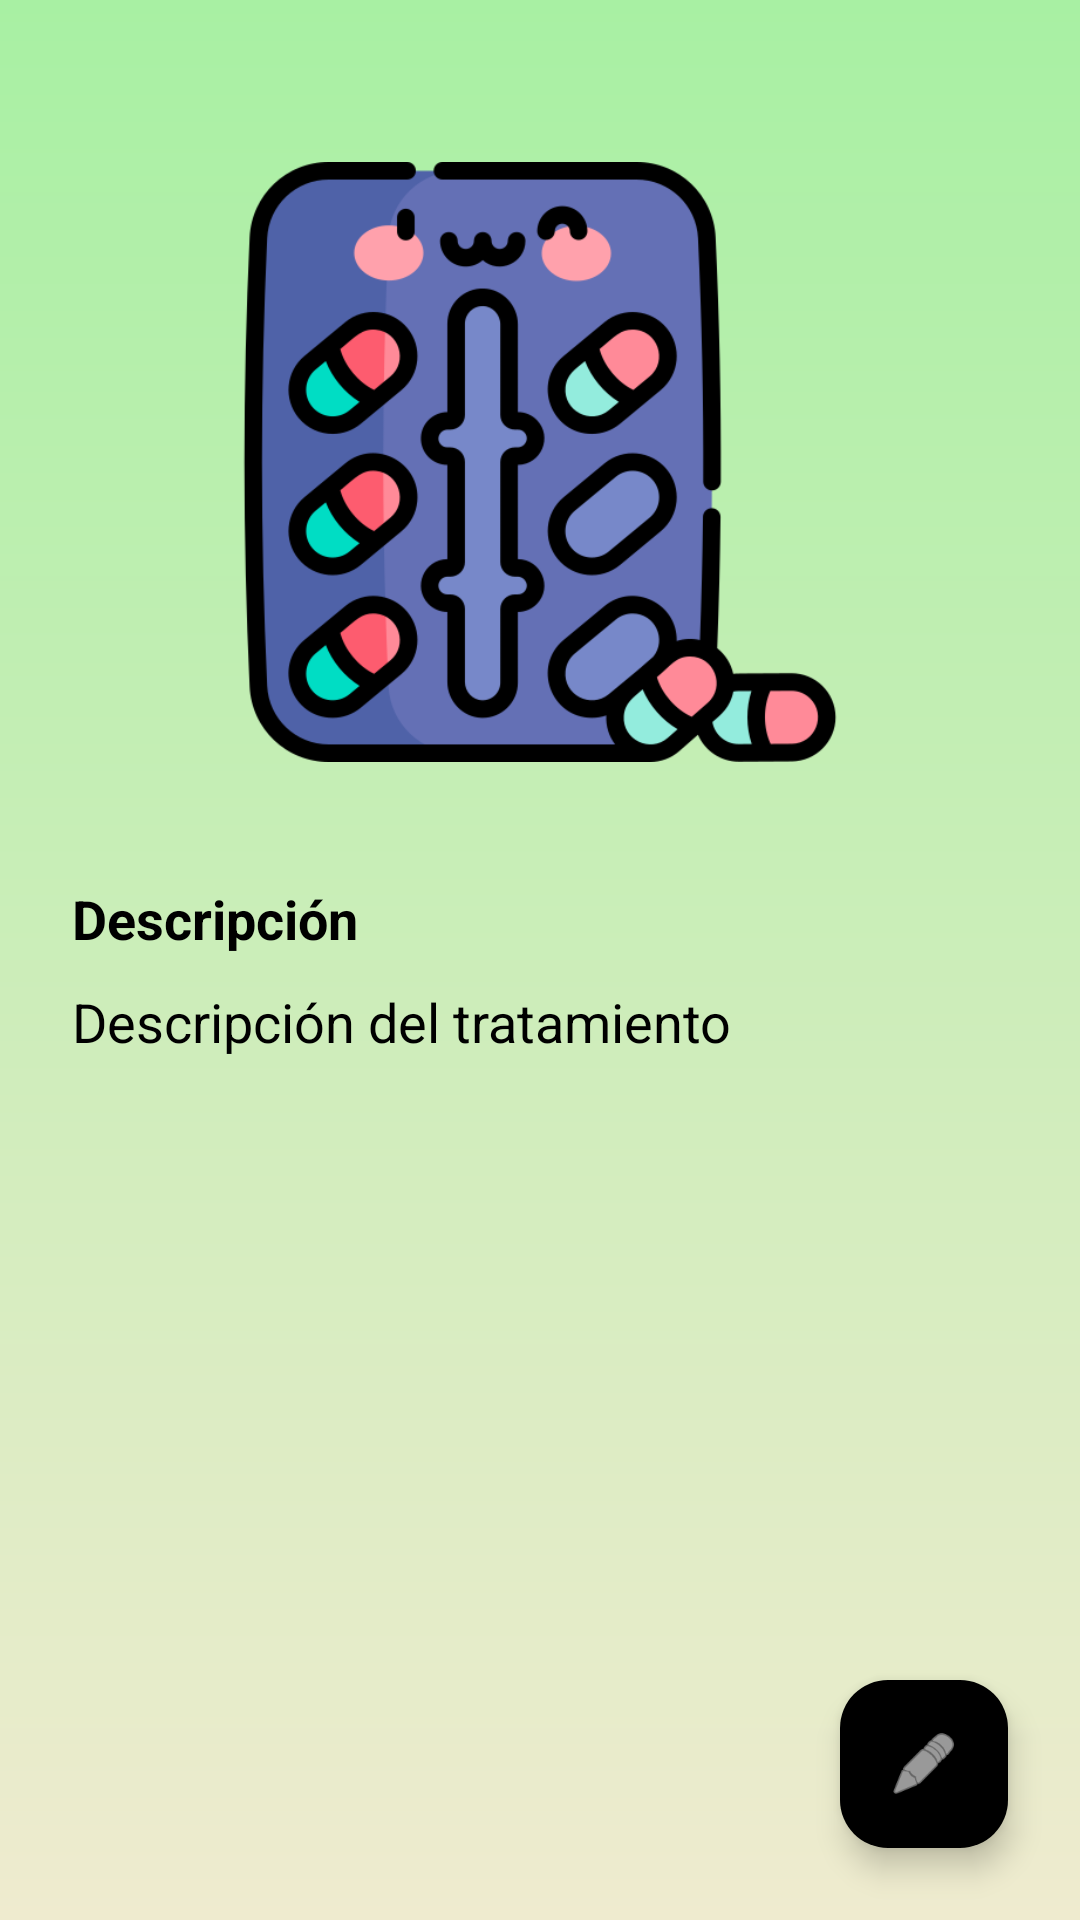

Icons on this 1080 x 1920 Android screen, each with the point to tap as (x,y):
edit: (924,1764)
